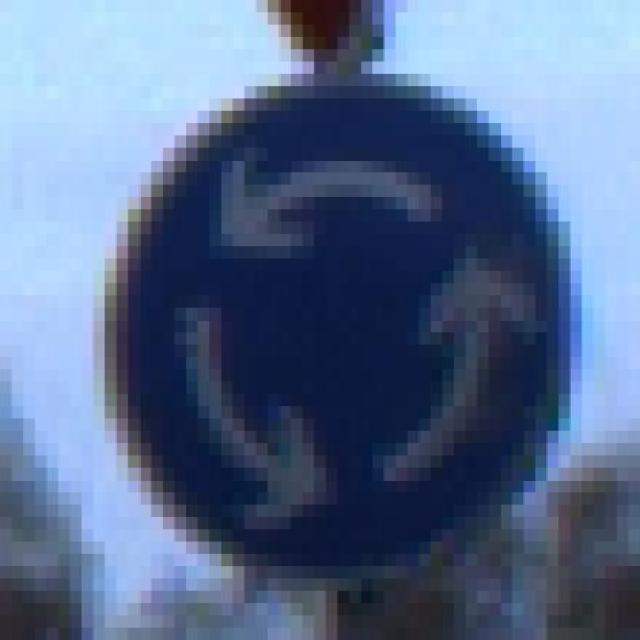Round-About: (58, 49, 594, 591)
